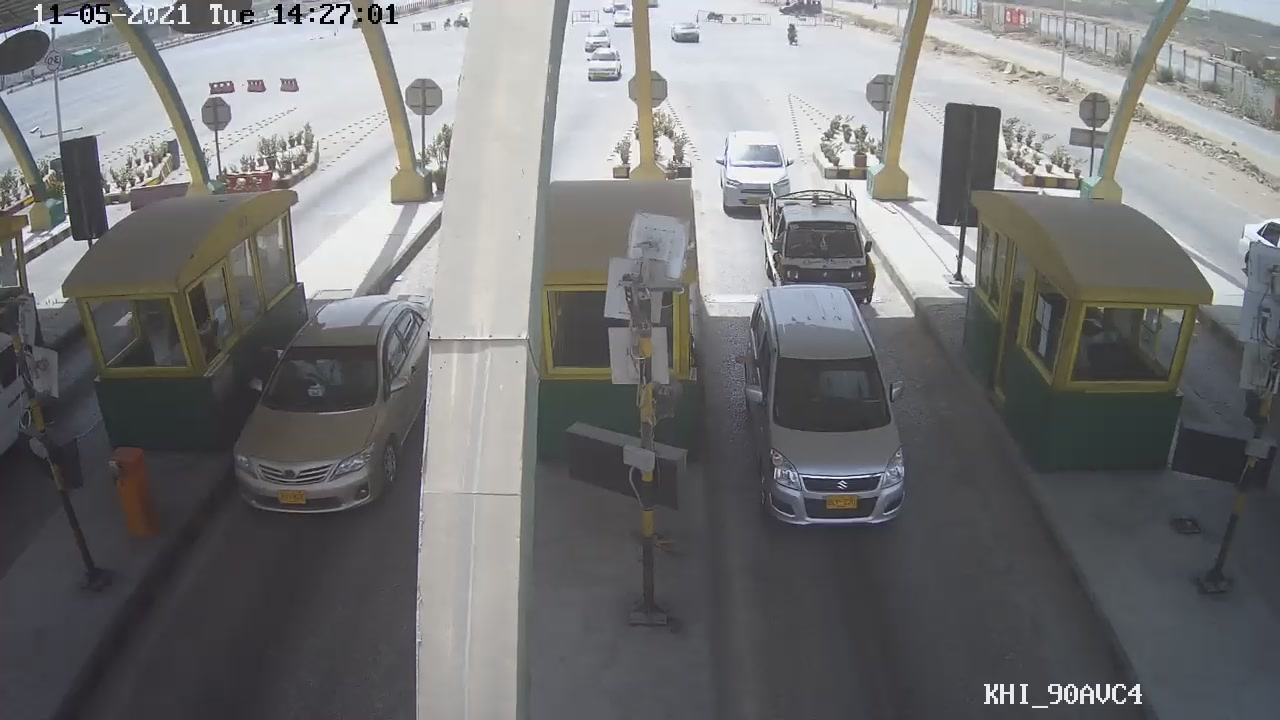F1: (738, 292, 915, 536)
